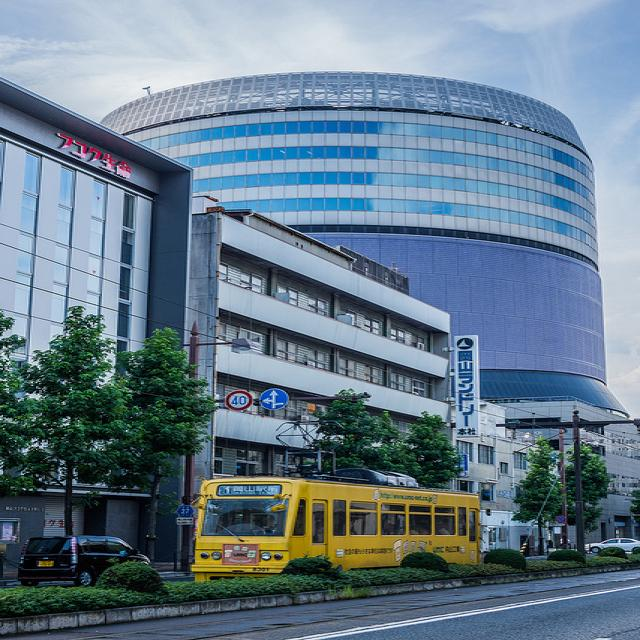Vehicle: (194, 476, 488, 581), (17, 535, 154, 588), (584, 538, 640, 554)
